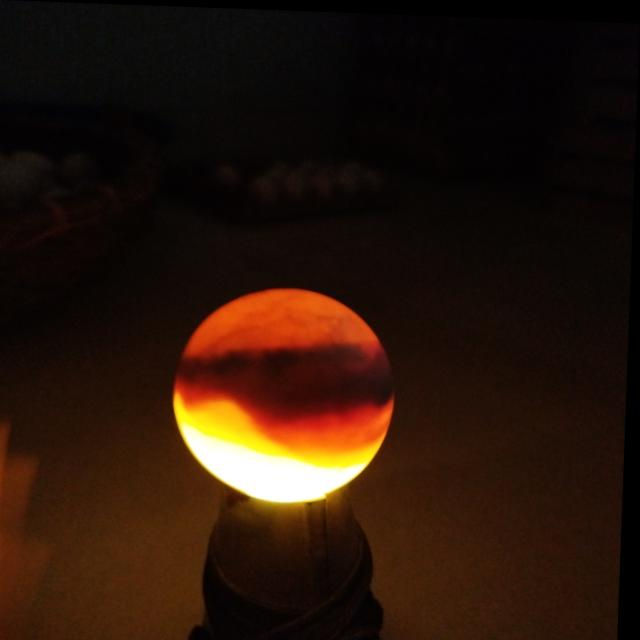Area Infectada: (178, 340, 399, 421)
